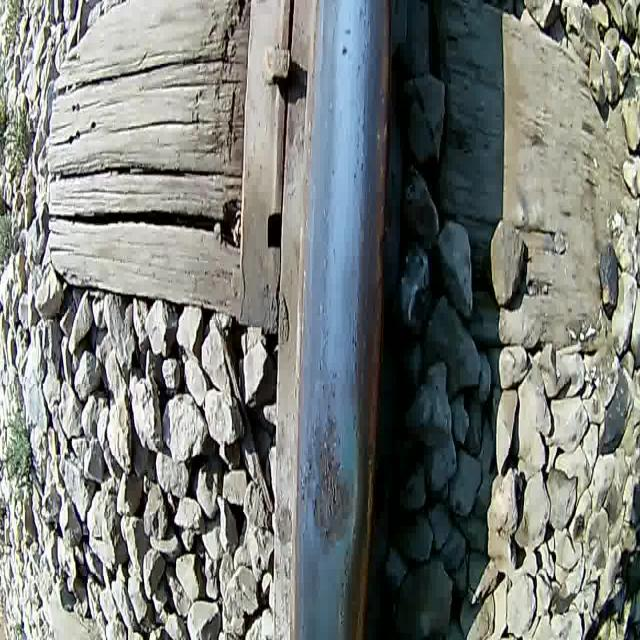Spallings: (306, 445, 343, 543)
Squats: (296, 395, 360, 562)
